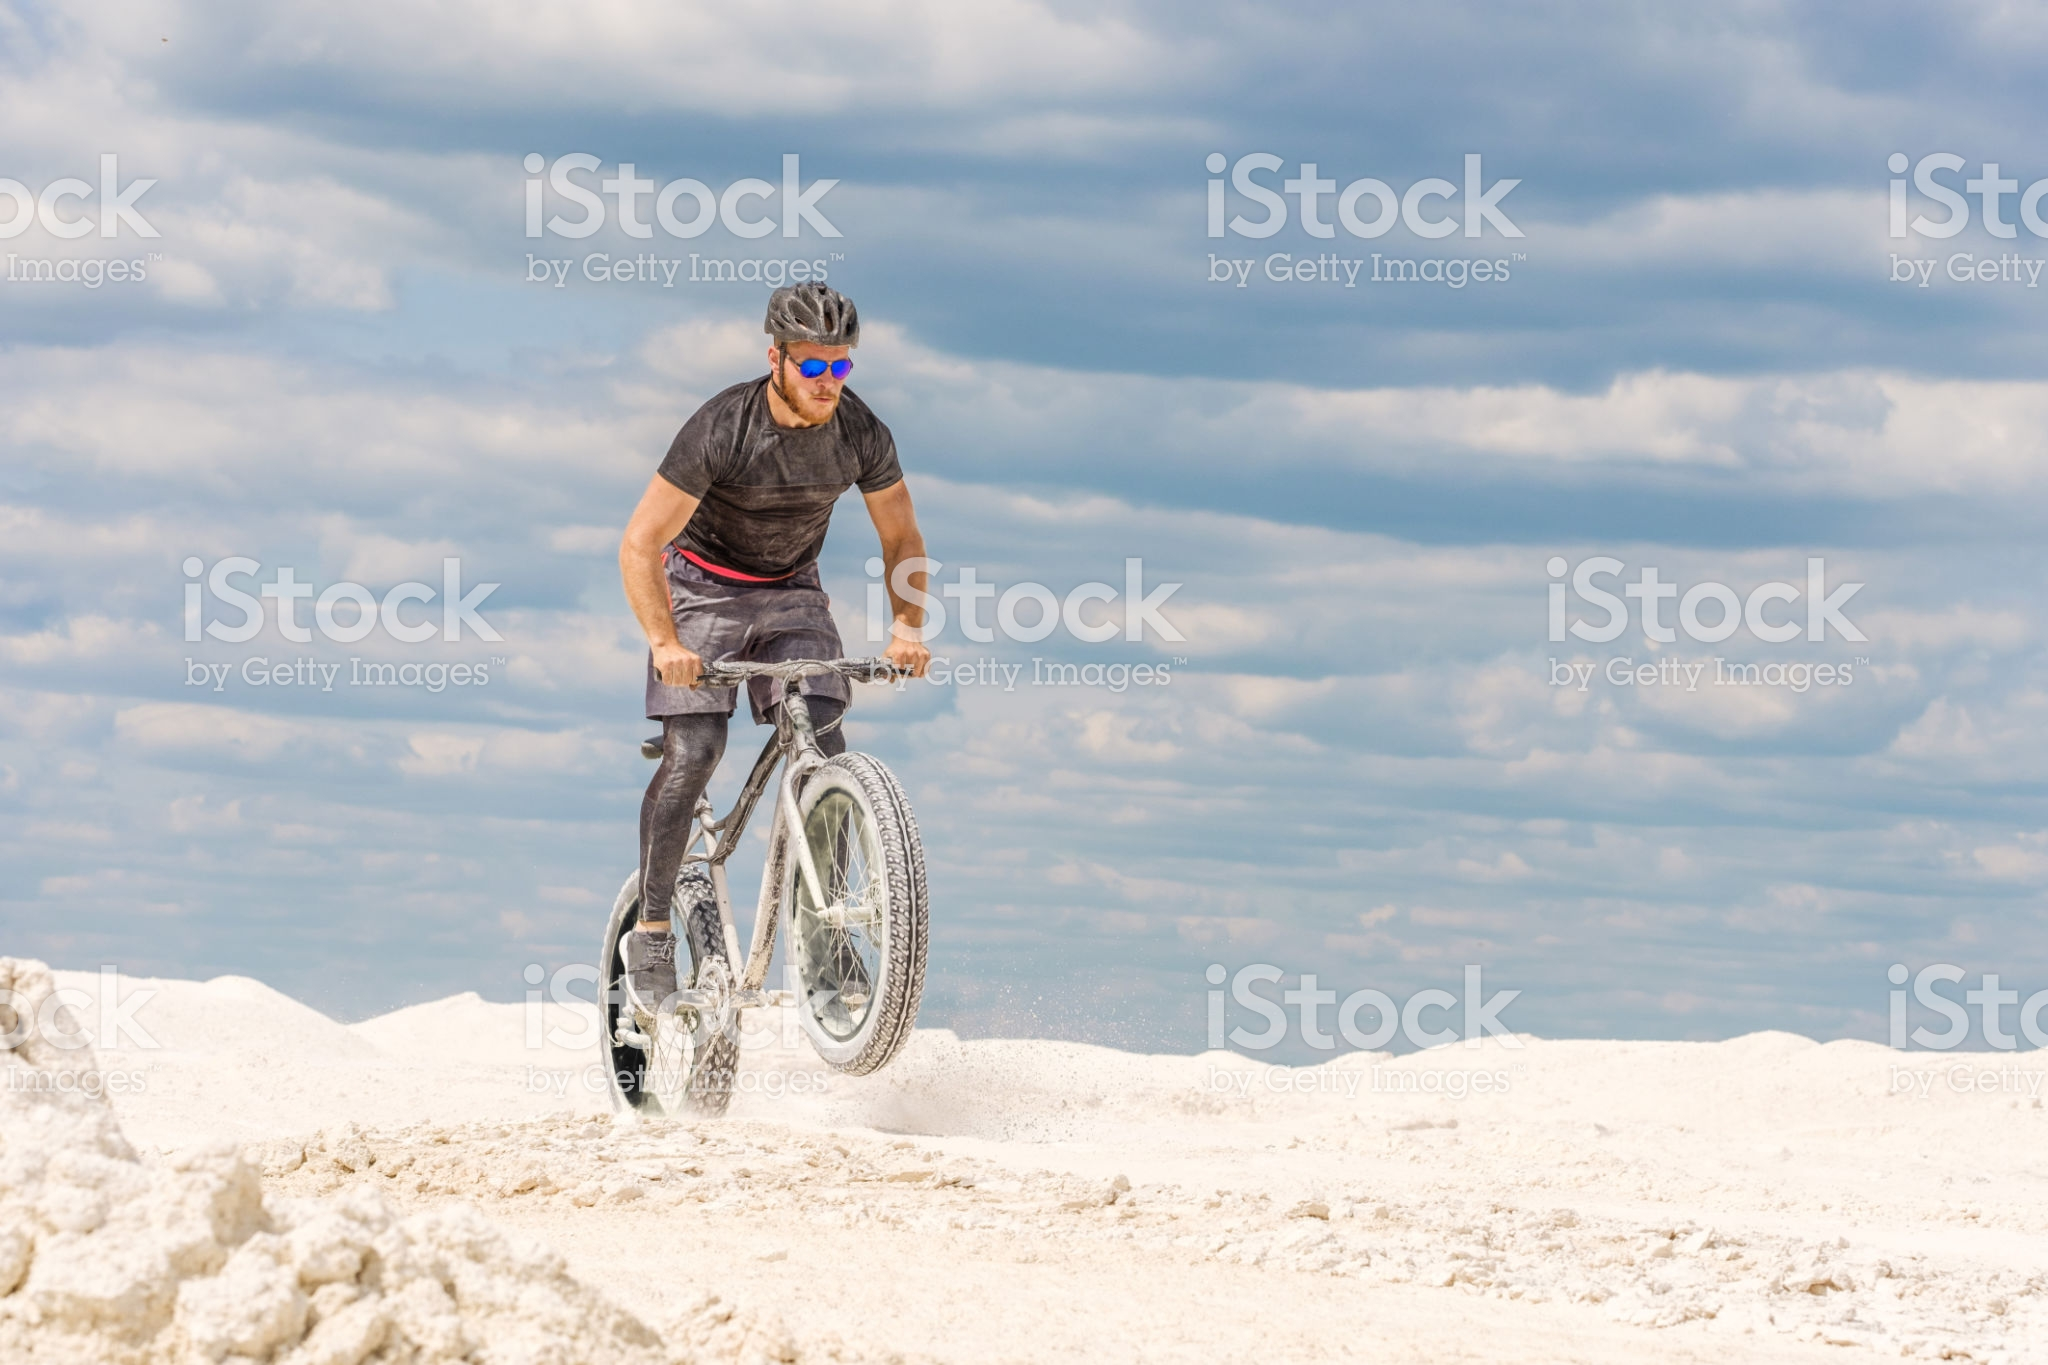helmet: (761, 261, 859, 347)
